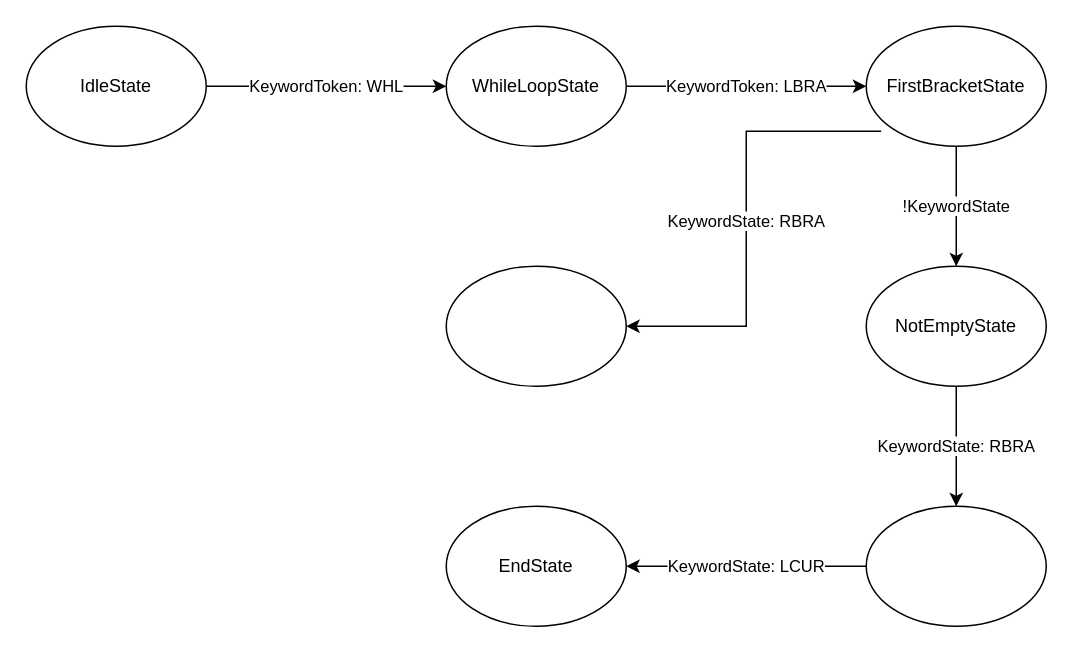
Some shapes in this 1073 by 653 pixel diagram are drawn without their labels. Each missing label, with the centre of its shape:
InvalidState: point (535, 325)
SecondBracketState: point (955, 565)
